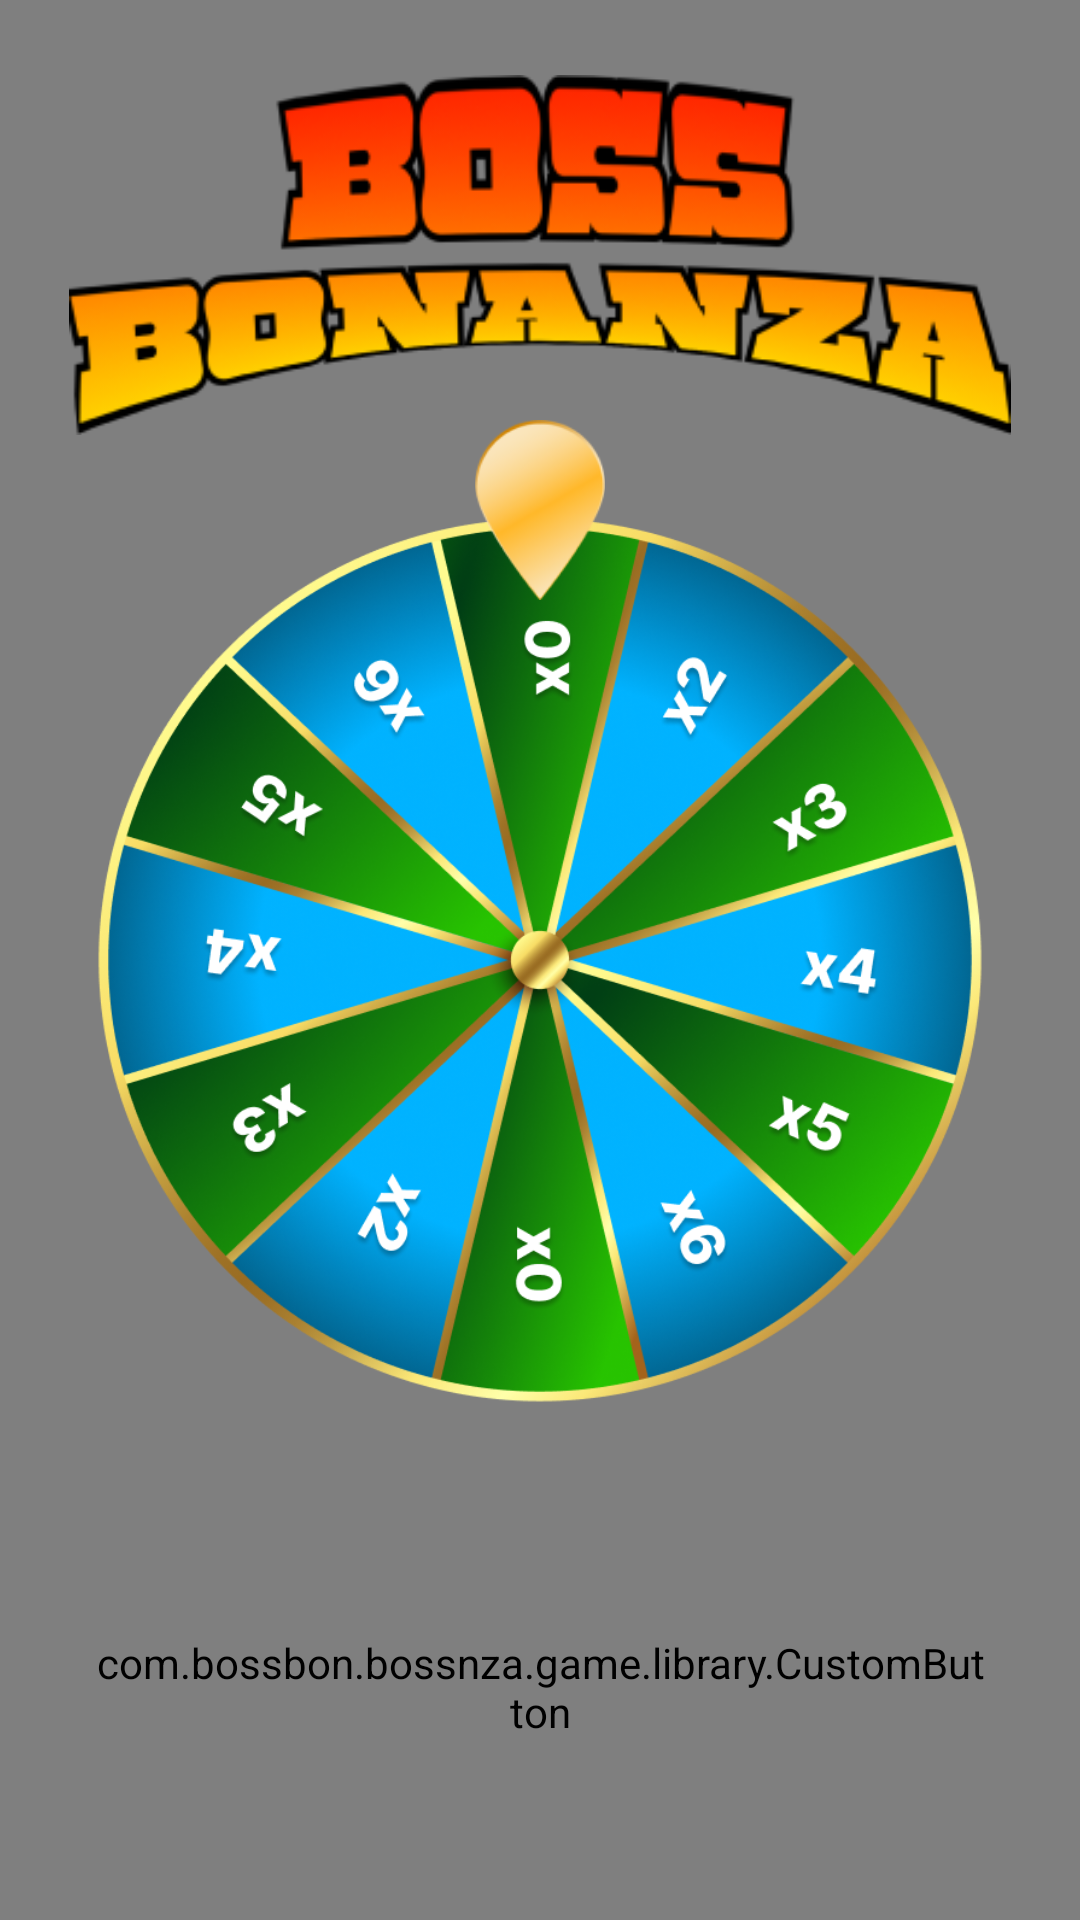

Screen size 1080 × 1920. Icon name, then its center in pixels as point (x, y):
spinning wheel arrow: point (540, 510)
